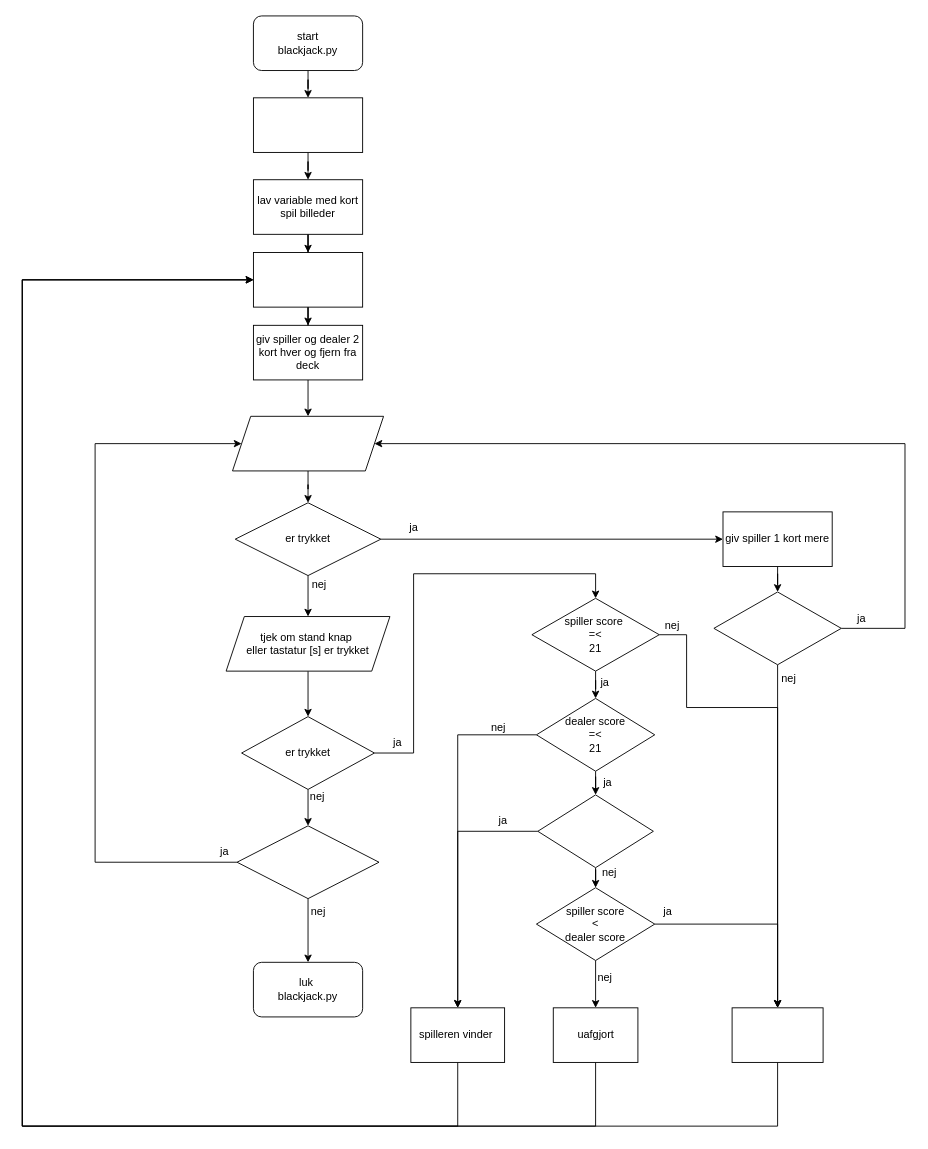
Image size: 928x1149. Some labels were removed from this diagram. The centre of each missing label's shape, as x and y in pixels:
dealeren vinder: [777,1034]
fra board.py byg knapper og GUI flade: [308,124]
lav en liste deck med alle mulige kort: [308,279]
running == true: [307,862]
spiller score > dealer score: [595,831]
spiller score under 21: [777,628]
tjek om hit knap eller tastatur [h] er trykket: [308,443]
